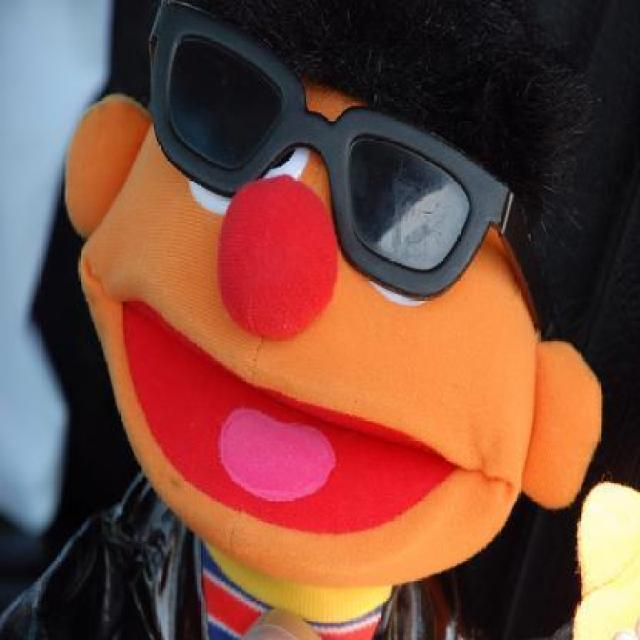face_nomask: (55, 70, 534, 564)
glasses: (151, 30, 557, 302)
